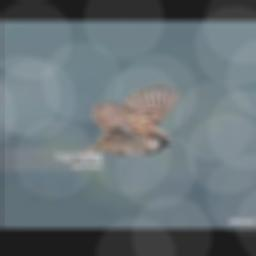Sparrow: (81, 83, 180, 158)
